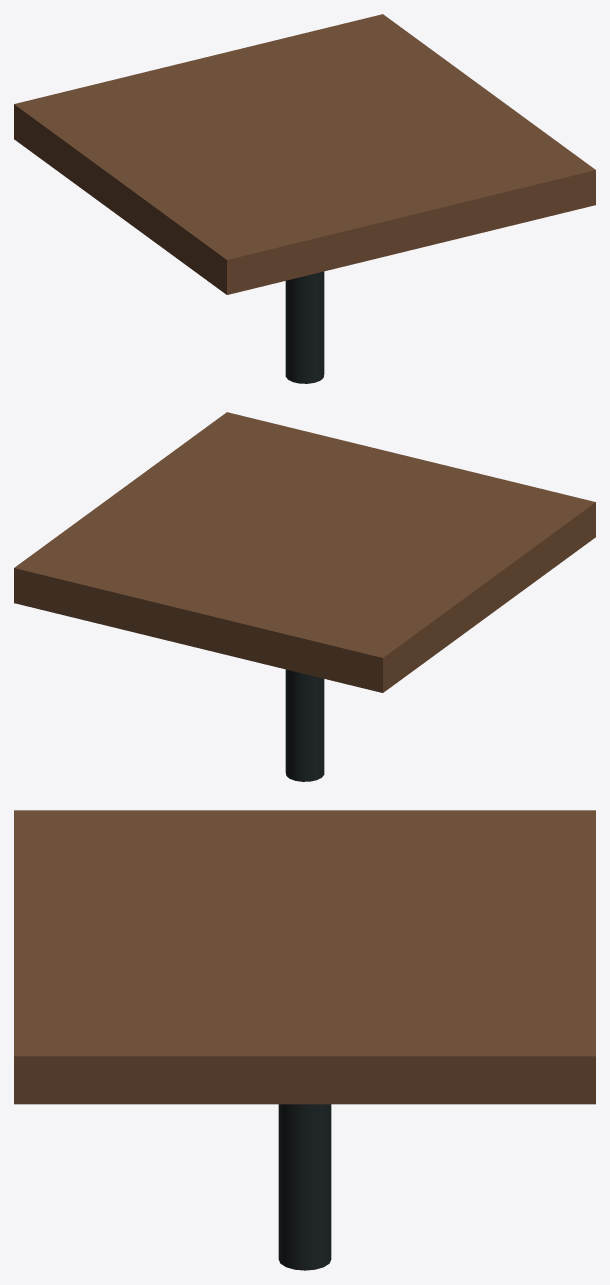
The model's file is side-table.glb.
3 views of the same model, one above another, from view 1: azimuth 30°, elevation 25°; view 2: azimuth 150°, elevation 25°; view 3: azimuth 270°, elevation 25° (orthographic). The views are drawn at different scales.
Visible parts, largest first — view 1: side table top, side table stem; view 2: side table top, side table stem; view 3: side table top, side table stem.
Boxes of the visible parts, x1,y1,x2,y2 form: side table top: [14, 14, 595, 294]; side table stem: [285, 271, 324, 383]; side table top: [14, 412, 595, 692]; side table stem: [285, 669, 324, 781]; side table top: [14, 810, 595, 1104]; side table stem: [278, 1104, 331, 1270].
Size of the model in its own units: 1.1 by 0.68 by 1.1.
